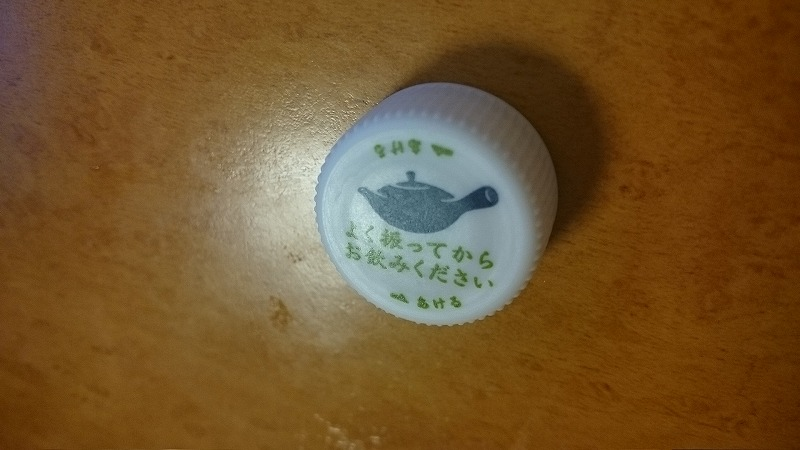A: (310, 76, 563, 330)
